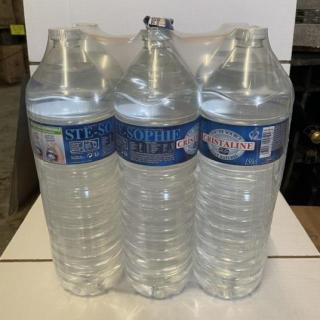Plastic-bottle: (195, 20, 296, 308), (24, 22, 126, 299), (109, 11, 199, 304)
